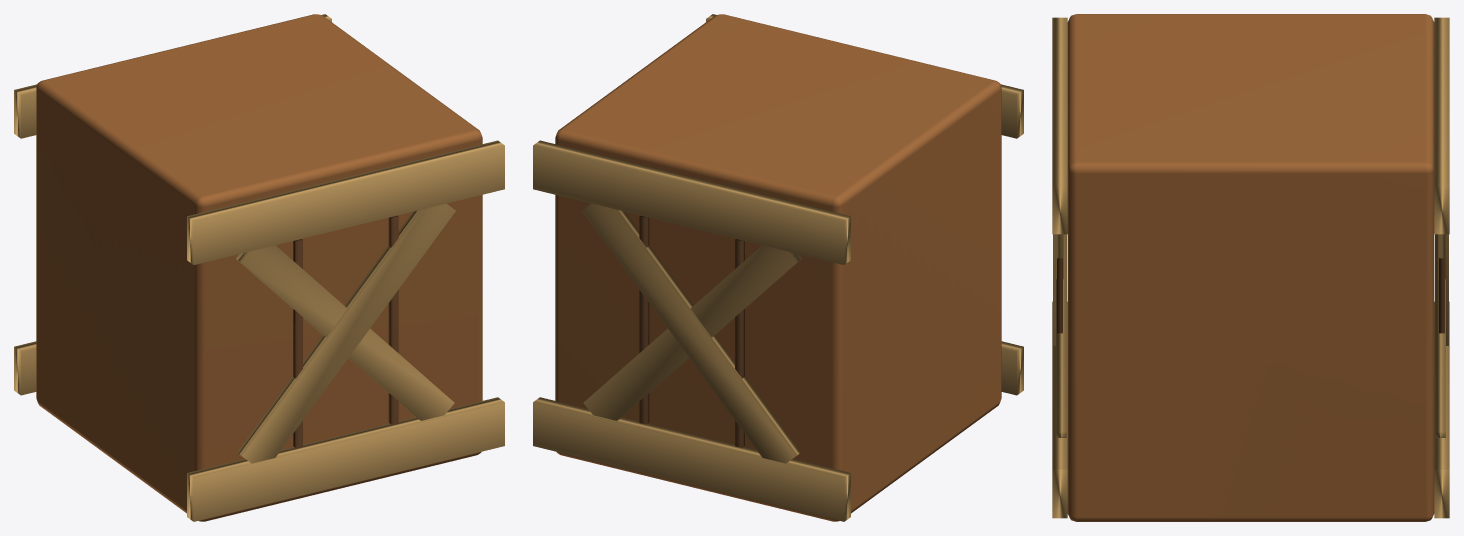
File: cargo_crate.glb
3 views of the same model, side by side, from view 1: azimuth 30°, elevation 25°; view 2: azimuth 150°, elevation 25°; view 3: azimuth 270°, elevation 25° (orthographic). The views are drawn at different scales.
Visible parts, largest first — view 1: cargo_crate; view 2: cargo_crate; view 3: cargo_crate.
Boxes of the visible parts, x1,y1,x2,y2 form: cargo_crate: (14, 14, 504, 521); cargo_crate: (533, 14, 1023, 521); cargo_crate: (1052, 14, 1449, 521).
Bounding box in the file's own units: 0.52 × 0.52 × 0.52.
